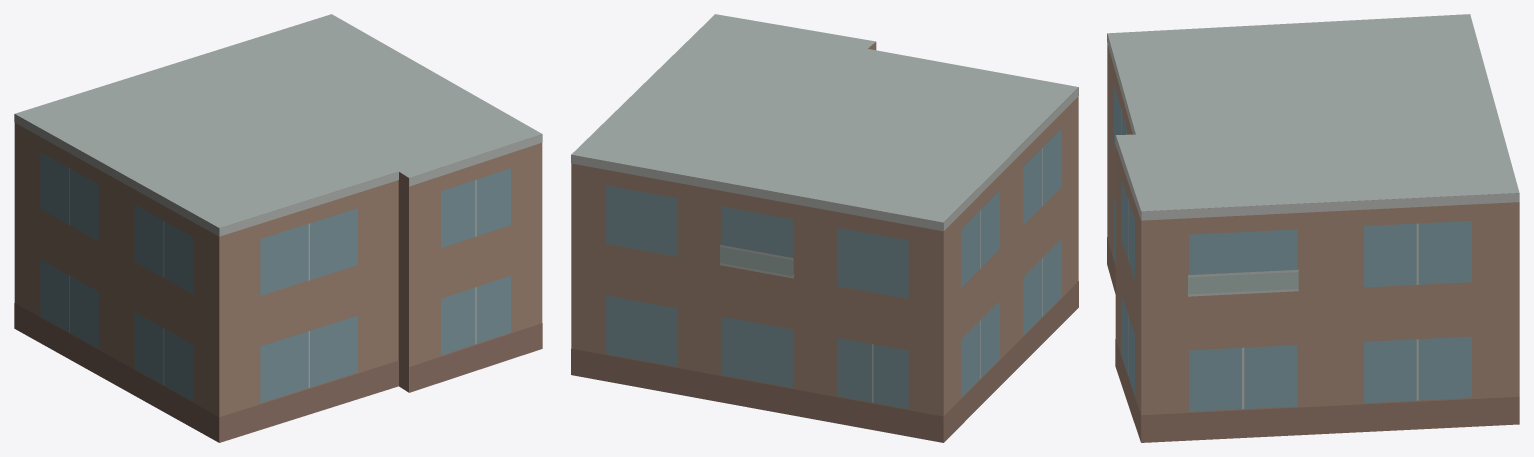
The model's file is survey-upis-32607827.glb.
The picture shows the model from 3 angles, left to right: view 1: azimuth 30°, elevation 25°; view 2: azimuth 150°, elevation 25°; view 3: azimuth 270°, elevation 25°; orthographic projection. The views are drawn at different scales.
Visible parts, largest first — view 1: survey-upis-32607827.tmp; view 2: survey-upis-32607827.tmp; view 3: survey-upis-32607827.tmp.
Boxes of the visible parts, bbox=[...] form: survey-upis-32607827.tmp: bbox=[14, 14, 542, 442]; survey-upis-32607827.tmp: bbox=[571, 14, 1078, 442]; survey-upis-32607827.tmp: bbox=[1107, 14, 1519, 442].
Bounding box in the file's own units: 11.16 × 6.1 × 9.86.
